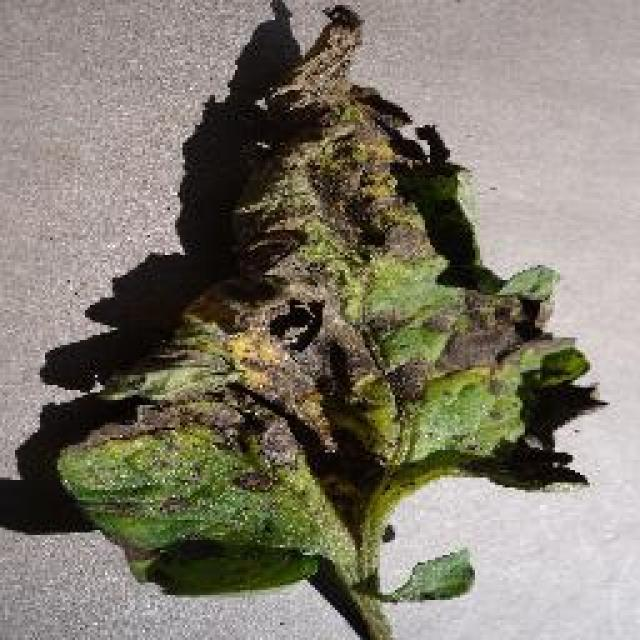Tomato Early blight leaf: (54, 5, 596, 557)
